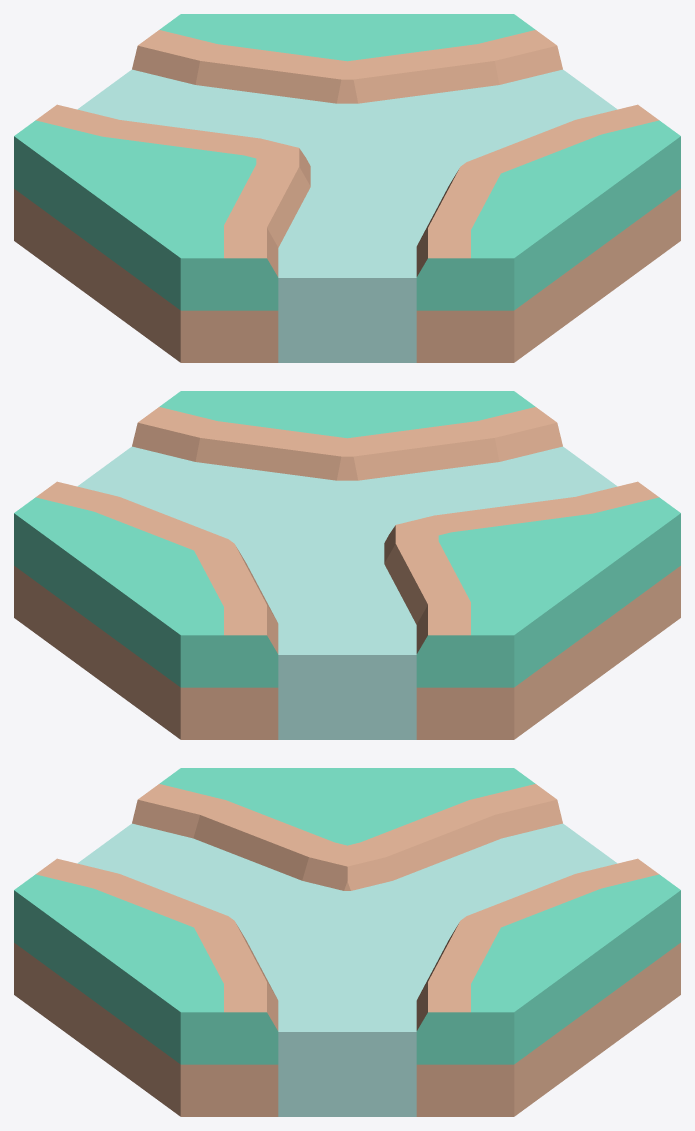
File: river_intersectionF.glb
3 renders of one model, top to bottom at view 1: azimuth 30°, elevation 25°; view 2: azimuth 150°, elevation 25°; view 3: azimuth 270°, elevation 25°, orthographic.
Parts seen in each view (by area): view 1: river_intersectionF; view 2: river_intersectionF; view 3: river_intersectionF.
Part boxes in pixels (left/top/right/bottom): river_intersectionF: left=14, top=14, right=680, bottom=362; river_intersectionF: left=14, top=391, right=680, bottom=739; river_intersectionF: left=14, top=768, right=680, bottom=1116.
Bounding box in the file's own units: 1 × 0.2 × 1.15.
